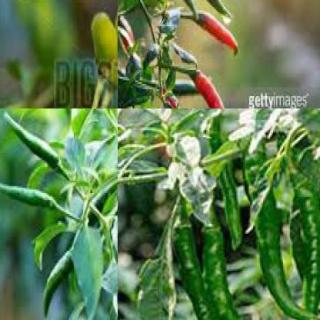green_chilli: (199, 219, 304, 319), (247, 187, 319, 319), (202, 115, 246, 252), (171, 225, 235, 319), (287, 178, 319, 320), (3, 111, 61, 174), (41, 249, 73, 319), (0, 179, 57, 216), (88, 9, 117, 72), (136, 0, 201, 23)
